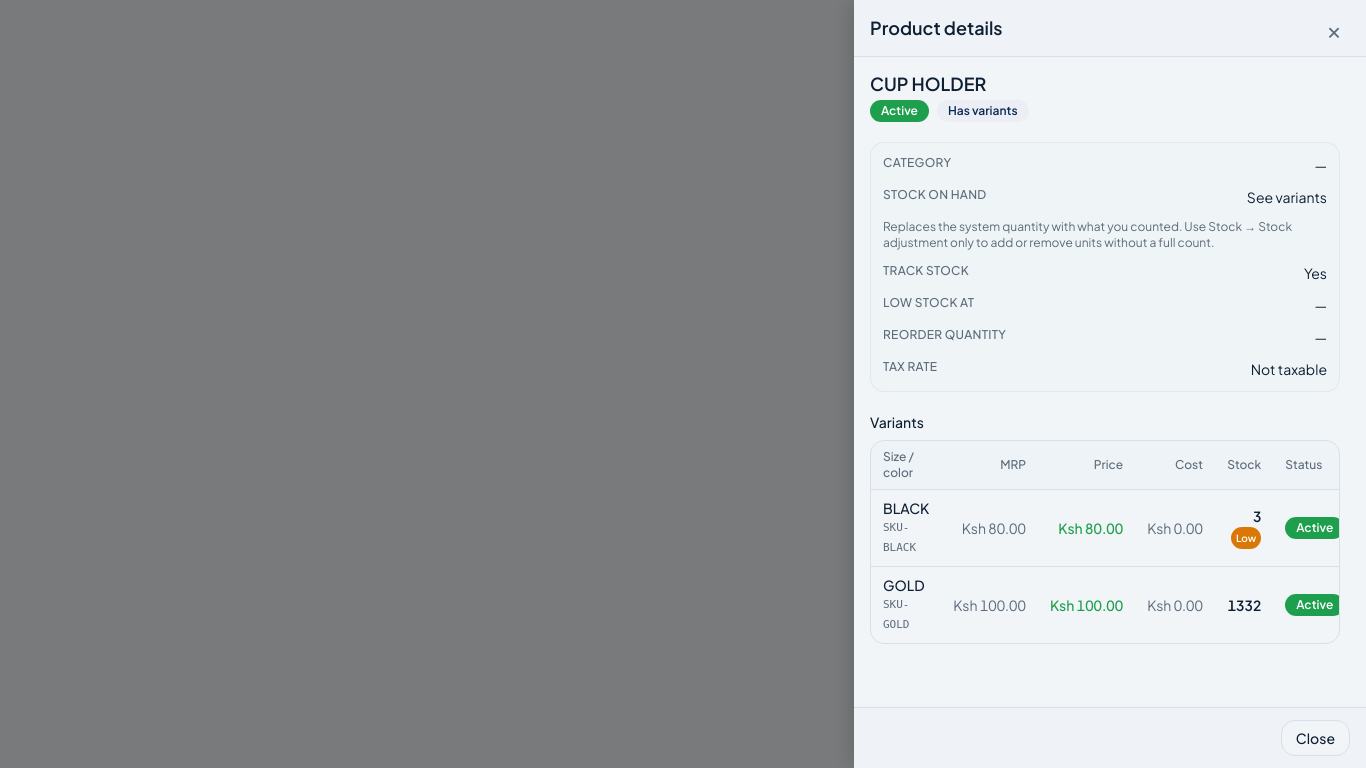
Scenario: ProductDetailPanel variant focus › focuses a variant when its row is clicked
Check: the heading "CUP HOLDER" is shown, box top-left (870, 72), bottom-right (986, 95)
Click the row with test id "variant-row-102" at (1114, 604), box top-left (871, 566), bottom-right (1356, 642)
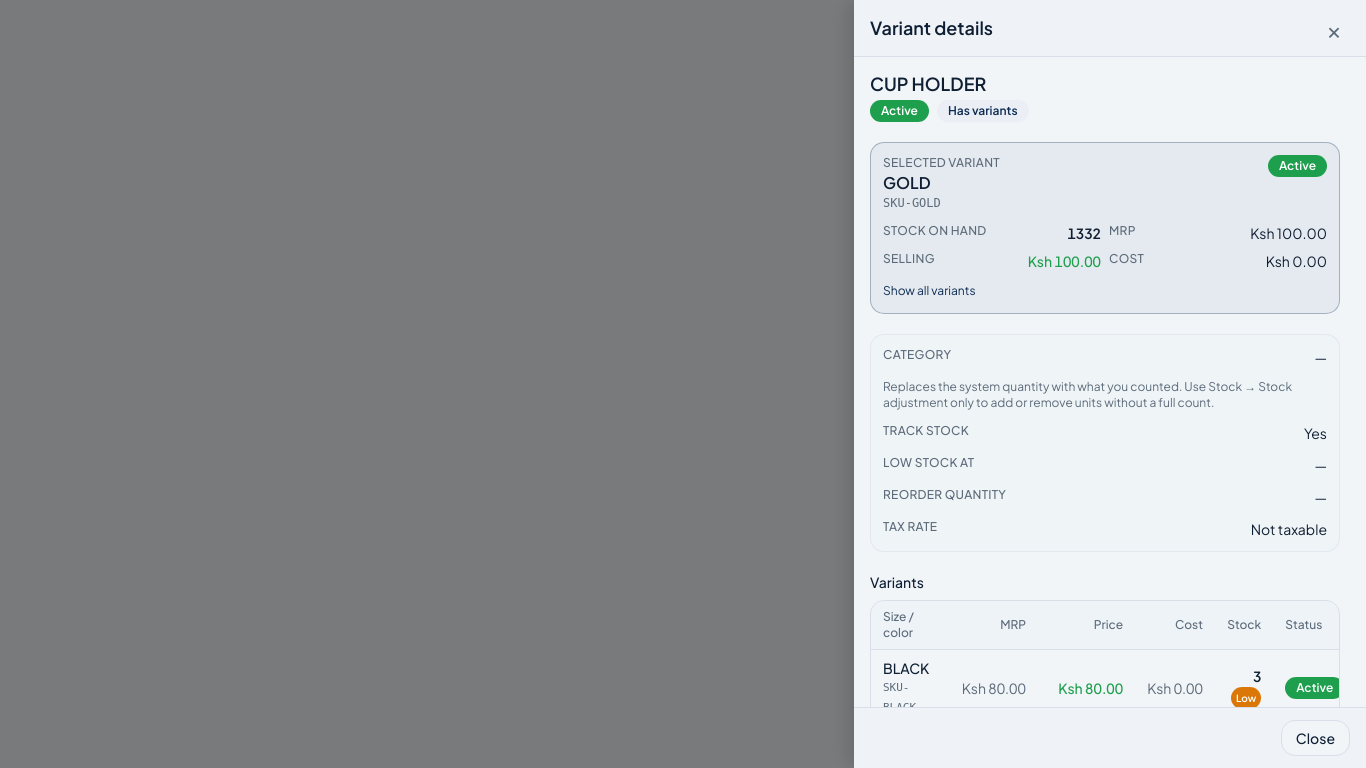
Check: the element with test id "focused-variant-detail" shows "GOLD", box top-left (883, 172), bottom-right (930, 192)
Check: the element with test id "focused-variant-detail" shows "1332", box top-left (1067, 224), bottom-right (1101, 242)
